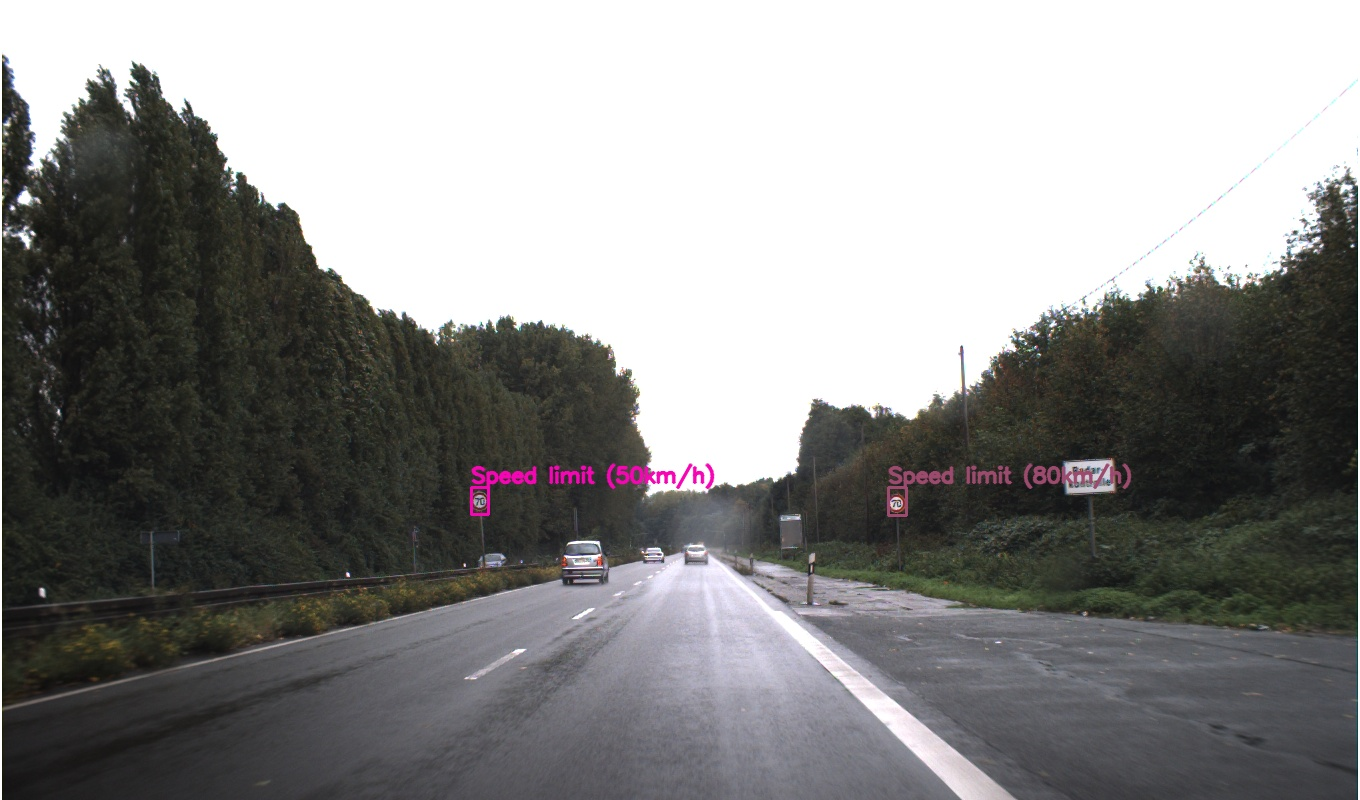Yield: (509, 382, 553, 422), (1056, 377, 1096, 414), (869, 443, 899, 471)
